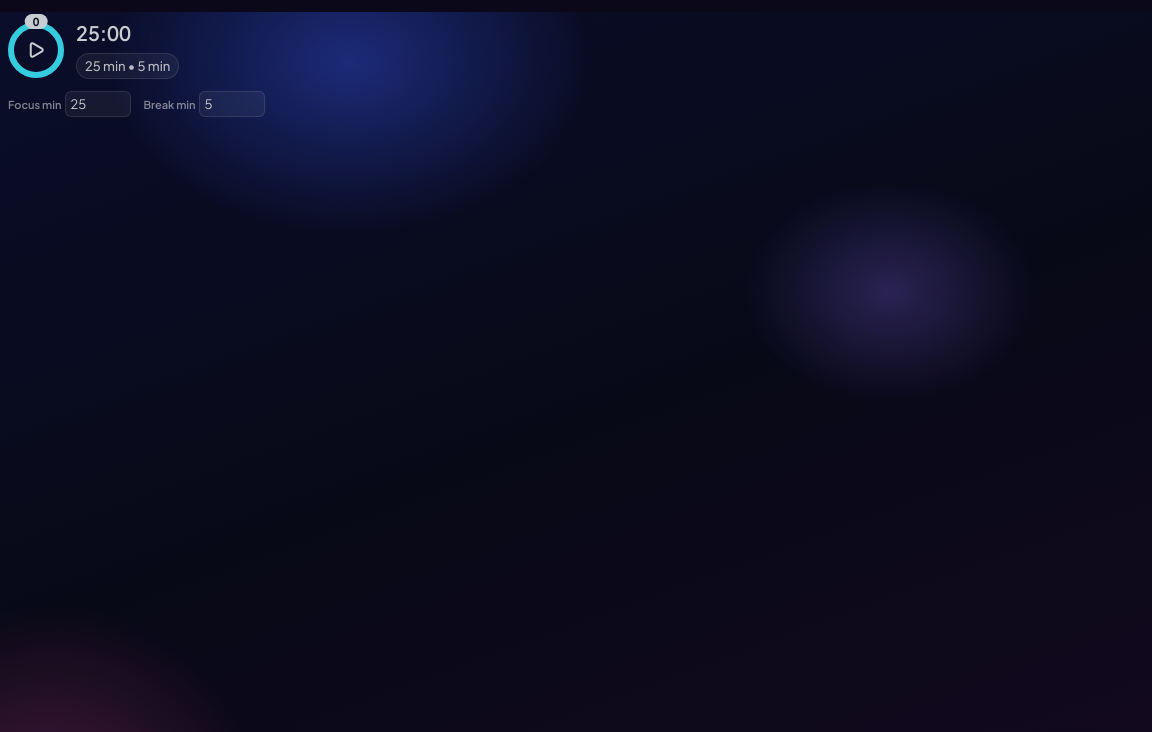
Scenario: FocusWidget › starts, pauses, resumes and resets the timer
Expected: the text with test id "focus-clock" reads "25:00", [76,20,131,45]
Click the button named "Start focus". click: (36, 50)
box: [14,28,58,72]
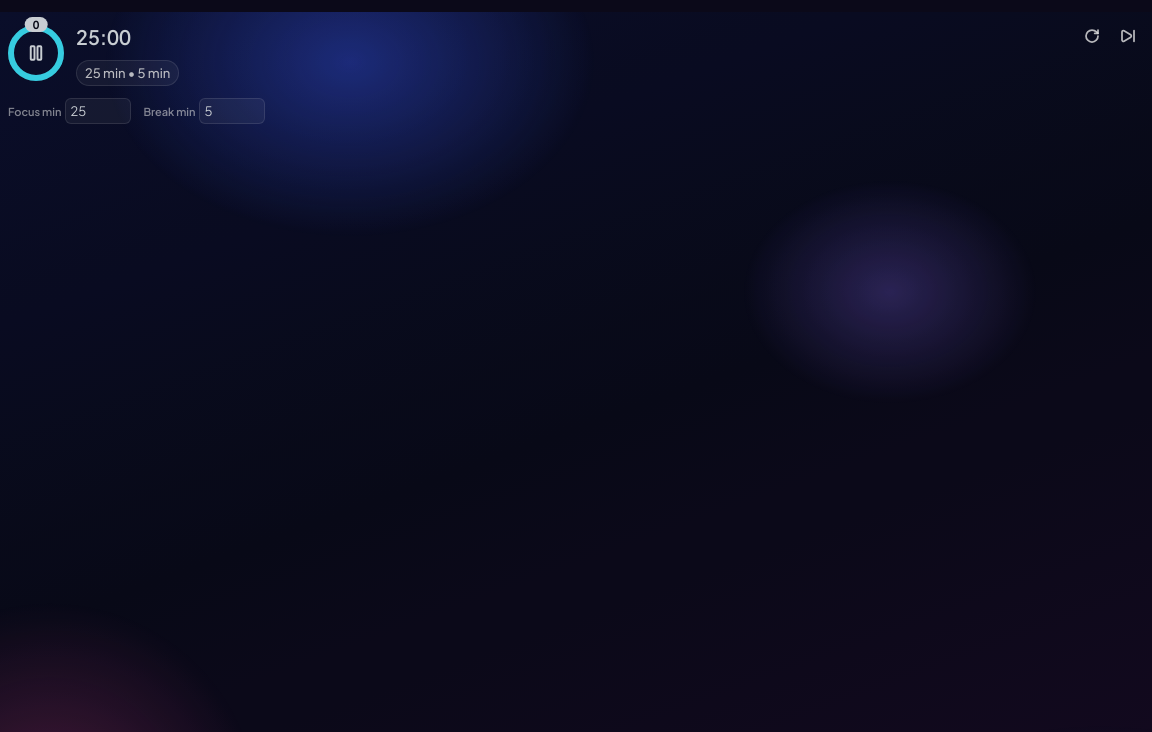
Now the button named "Pause" is shown
Click the button named "Pause". click: (36, 53)
box: [14,31,58,75]
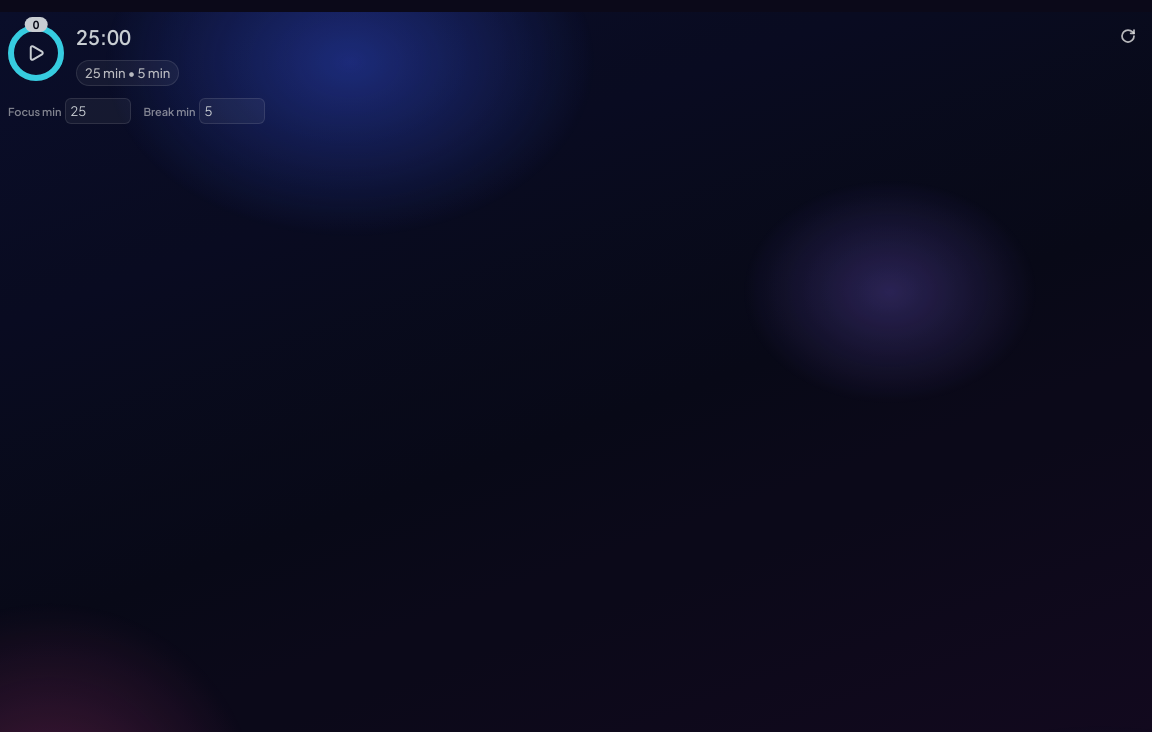
Now the button named "Resume" is shown
Click the button named "Resume". click: (36, 53)
box: [14,31,58,75]
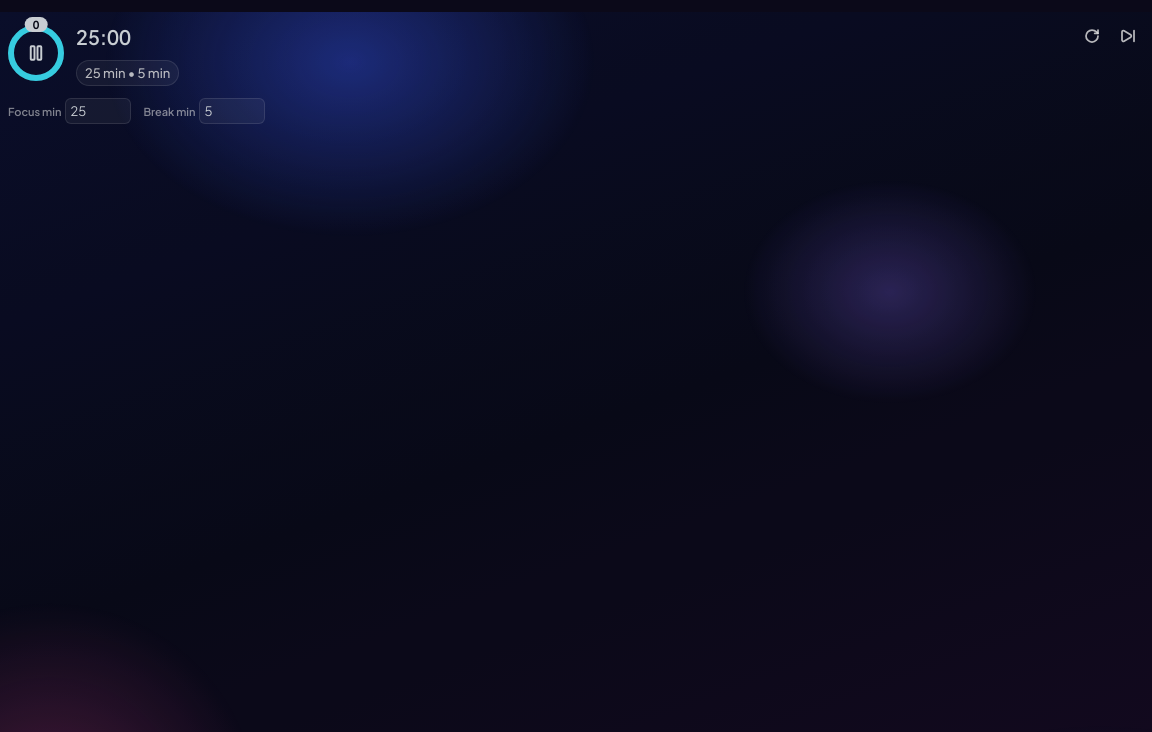
Click the button named "Reset". click: (1092, 36)
box: [1076,20,1108,52]
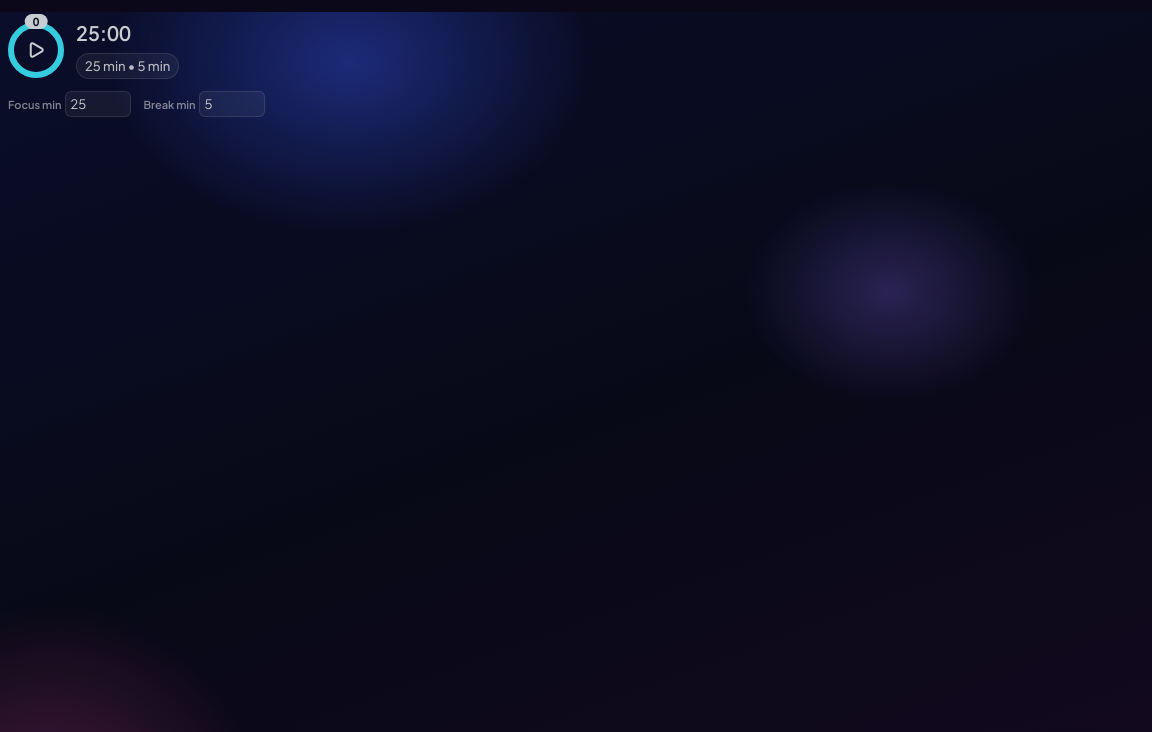
Now the button named "Start focus" is shown, box [14,28,58,72]
